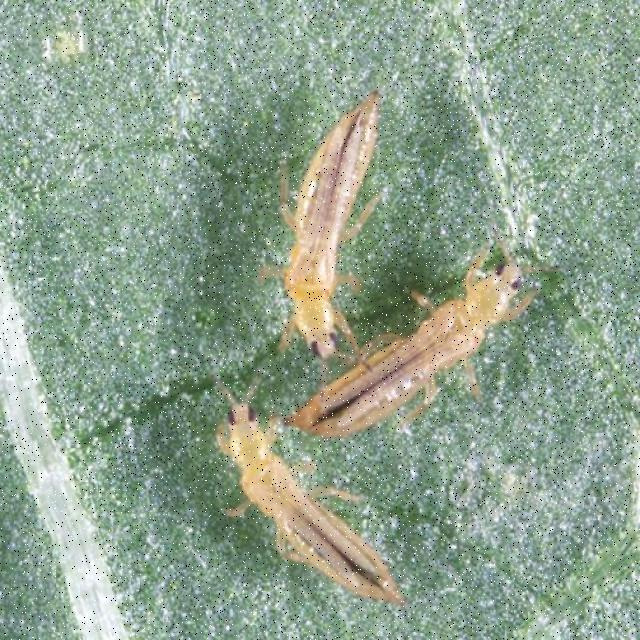Thrips: (278, 241, 545, 454), (205, 385, 421, 622), (247, 80, 385, 354)
